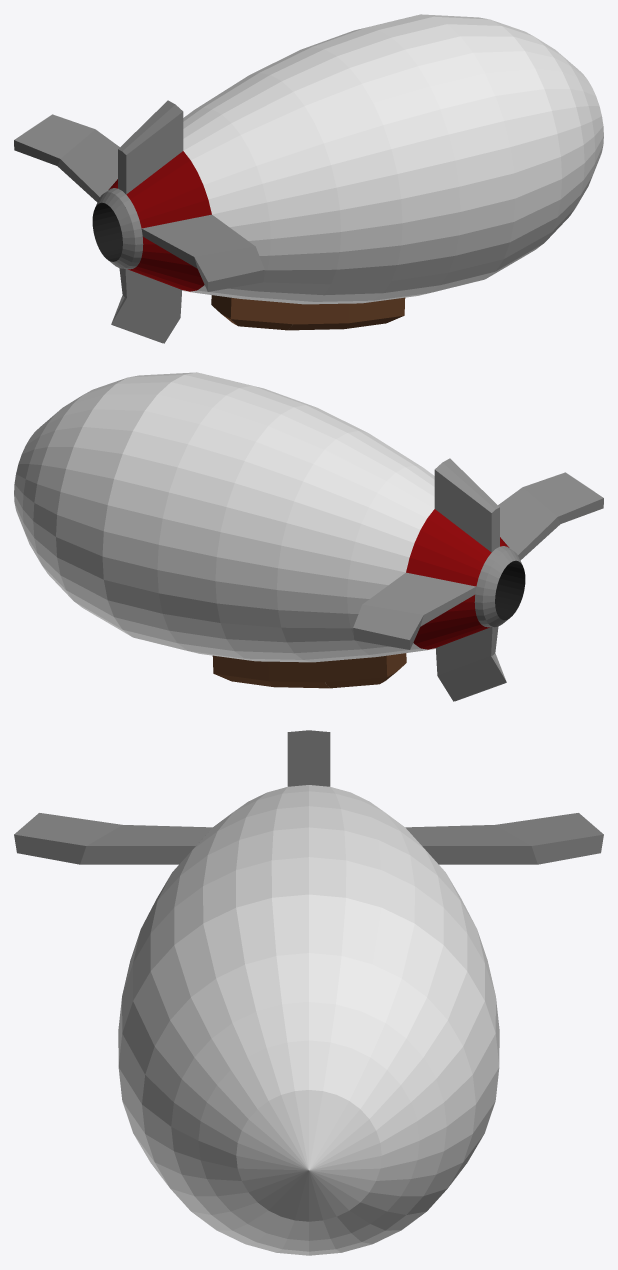
The model's file is zeppelin.fbx.
3 views of the same model, one above another, from view 1: azimuth 30°, elevation 25°; view 2: azimuth 150°, elevation 25°; view 3: azimuth 270°, elevation 25° (orthographic). The views are drawn at different scales.
Visible parts, largest first — view 1: Cylinder; view 2: Cylinder; view 3: Cylinder.
Boxes of the visible parts, x1,y1,x2,y2 form: Cylinder: (14,14,603,343); Cylinder: (14,372,603,701); Cylinder: (14,730,603,1255).
Size of the model in its own units: 781 by 421 by 584.
